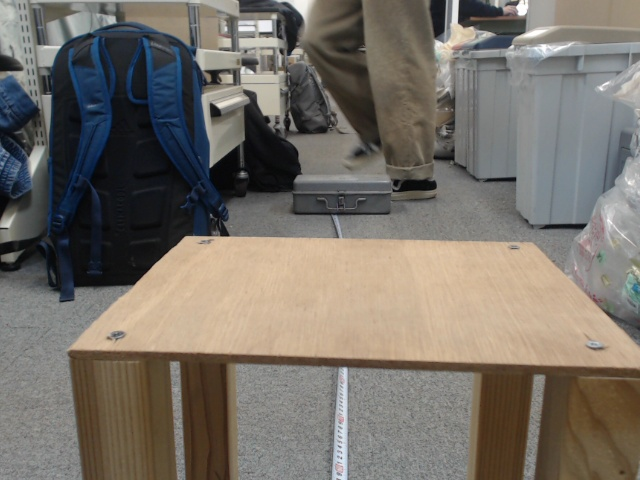desk: (291, 177, 535, 431)
